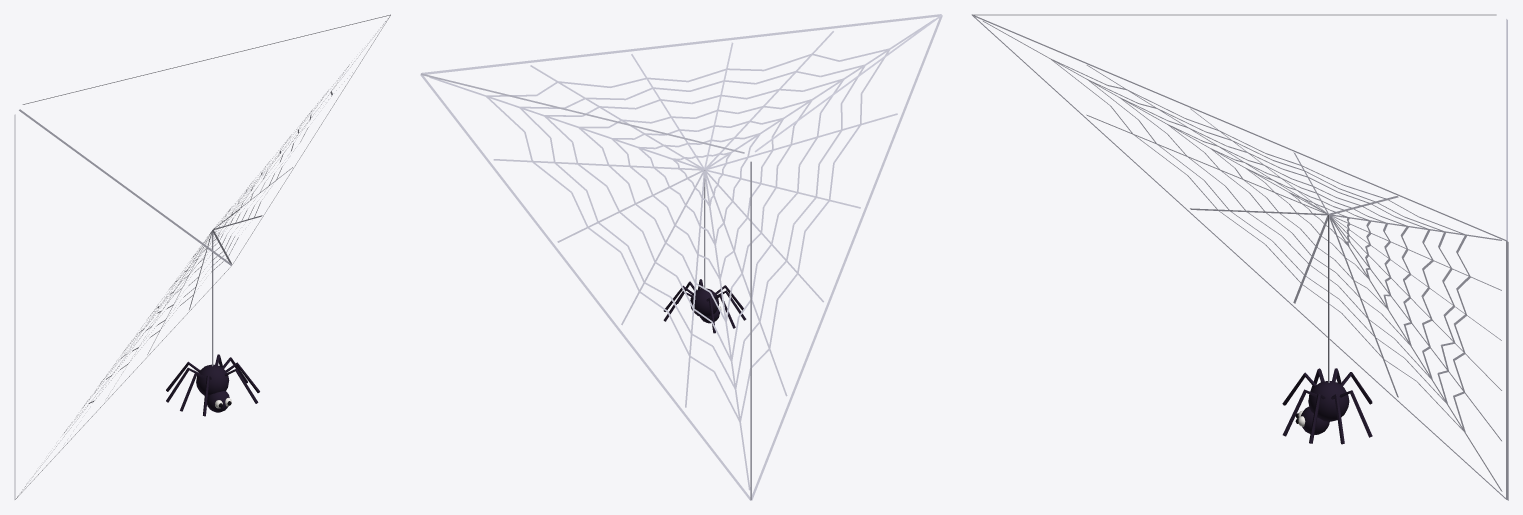
The model's file is manor_cobweb.glb.
3 renders of one model, left to right at view 1: azimuth 30°, elevation 25°; view 2: azimuth 150°, elevation 25°; view 3: azimuth 270°, elevation 25°, orthographic. The views are drawn at different scales.
Parts seen in each view (by area): view 1: Cobweb; view 2: Cobweb; view 3: Cobweb.
Part boxes in pixels (left/top/right/bottom): Cobweb: left=14, top=14, right=390, bottom=499; Cobweb: left=420, top=14, right=942, bottom=500; Cobweb: left=971, top=14, right=1508, bottom=500.
Bounding box in the file's own units: 0.783 × 0.783 × 0.783.
